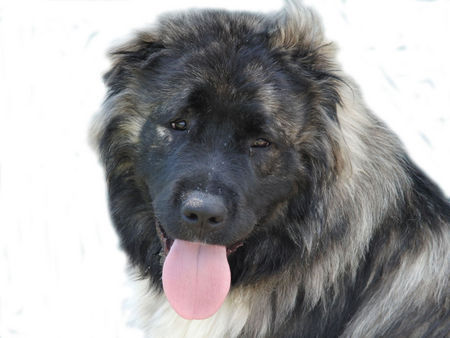cau_ovcharka: (87, 0, 450, 338)
